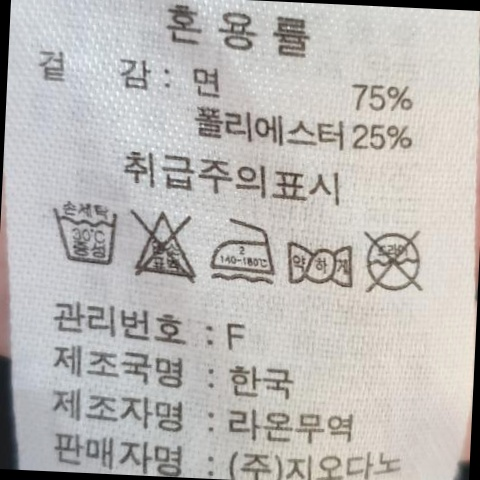DN_dry_clean: (360, 223, 431, 299)
hand_wash: (47, 201, 124, 270)
iron_medium: (210, 216, 278, 282)
non_chlorine_bleach: (128, 204, 207, 287)
wring: (283, 234, 358, 293)
